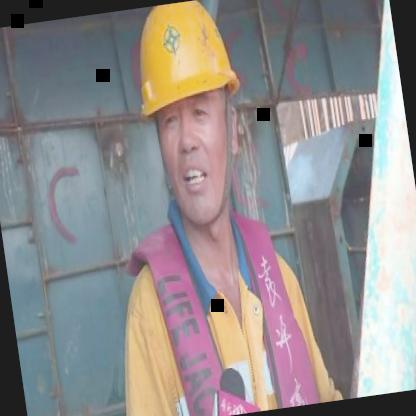helmet: (123, 0, 259, 221)
